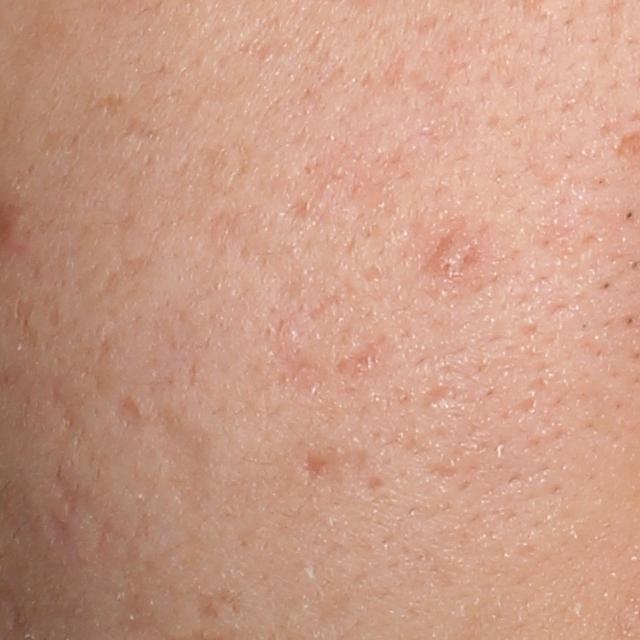atrophic_scar: (144, 407, 215, 515), (329, 334, 391, 378), (304, 440, 329, 488), (112, 394, 144, 430)
